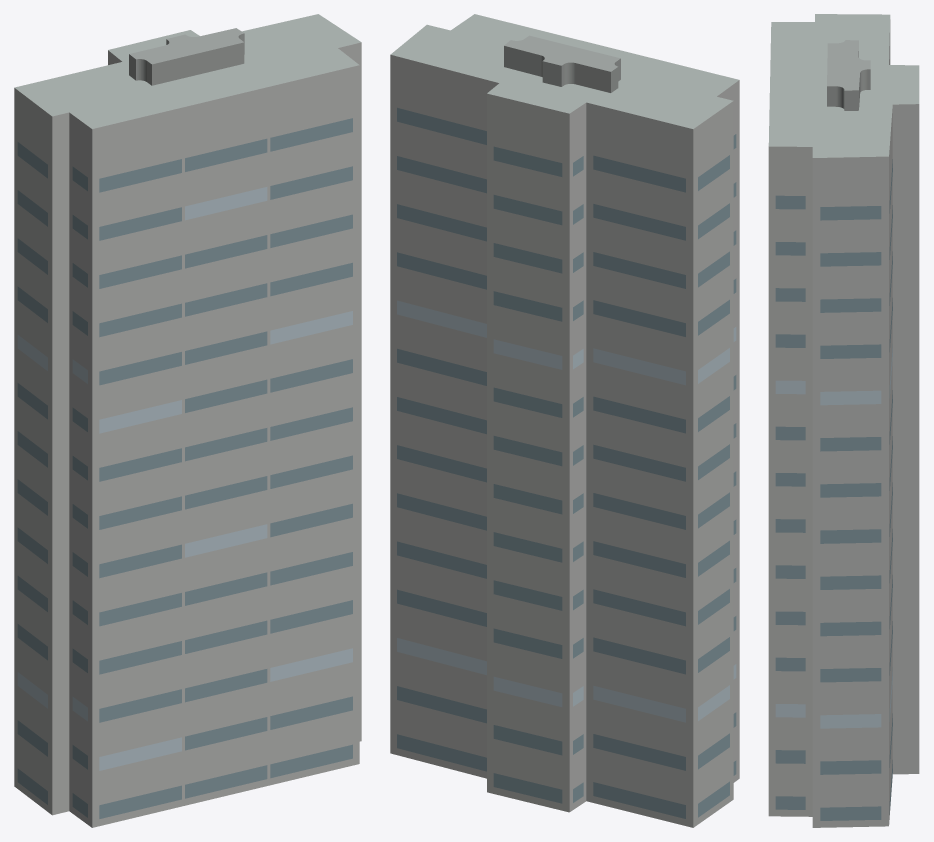
File: fallback-gangdong-lotte-castle-first-117.glb
The picture shows the model from 3 angles, left to right: view 1: azimuth 30°, elevation 25°; view 2: azimuth 150°, elevation 25°; view 3: azimuth 270°, elevation 25°; orthographic projection. The views are drawn at different scales.
Parts seen in each view (by area): view 1: fallback-gangdong-lotte-castle-first-117; view 2: fallback-gangdong-lotte-castle-first-117; view 3: fallback-gangdong-lotte-castle-first-117.
Boxes of the visible parts, <box> form: fallback-gangdong-lotte-castle-first-117: <box>14,14,361,827</box>; fallback-gangdong-lotte-castle-first-117: <box>390,14,739,827</box>; fallback-gangdong-lotte-castle-first-117: <box>768,14,919,827</box>.
Size of the model in its own units: 36.3 by 81 by 16.08.
